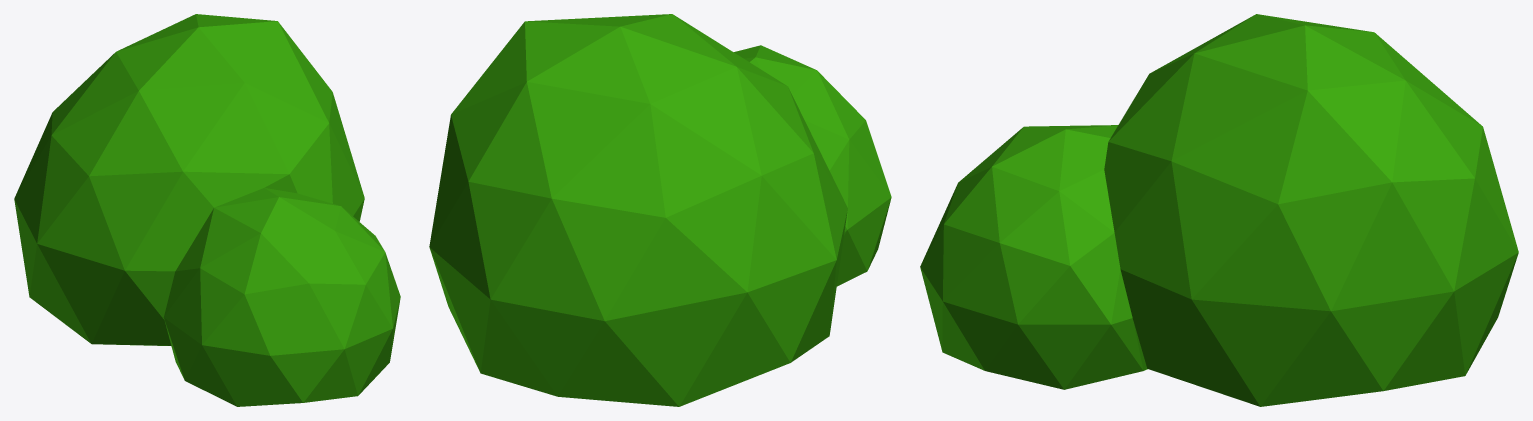
File: Bush2.fbx
3 views of the same model, side by side, from view 1: azimuth 30°, elevation 25°; view 2: azimuth 150°, elevation 25°; view 3: azimuth 270°, elevation 25° (orthographic). The views are drawn at different scales.
Parts seen in each view (by area): view 1: Icosphere.002; view 2: Icosphere.002; view 3: Icosphere.002.
Part boxes in pixels (left/top/right/bottom): Icosphere.002: left=14, top=14, right=400, bottom=406; Icosphere.002: left=429, top=14, right=891, bottom=406; Icosphere.002: left=920, top=14, right=1518, bottom=406.
Bounding box in the file's own units: 292 × 249 × 398.
